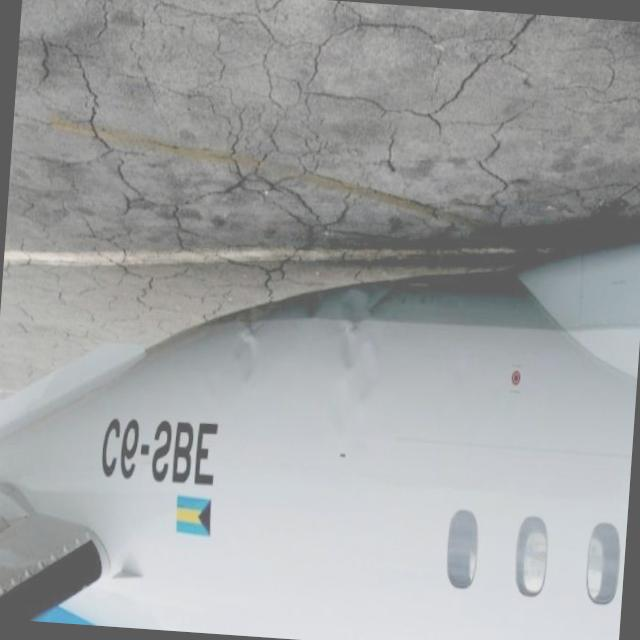dent: (328, 282, 388, 461), (222, 306, 266, 398)
